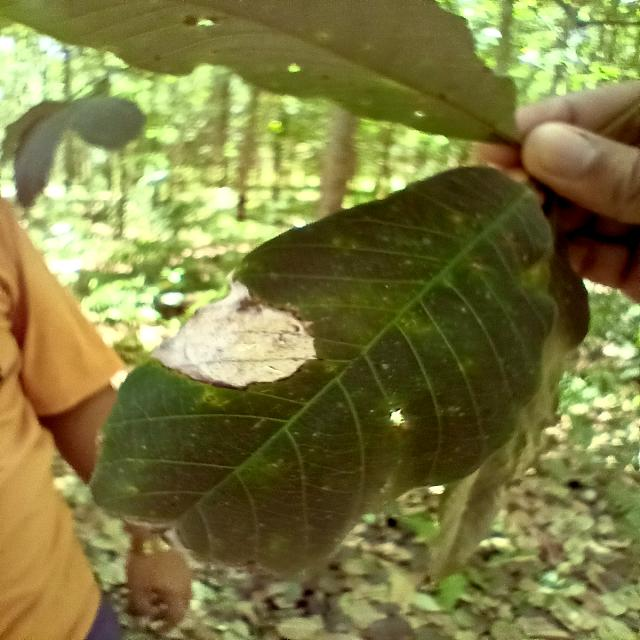Leaf-Blight: (147, 272, 316, 388)
